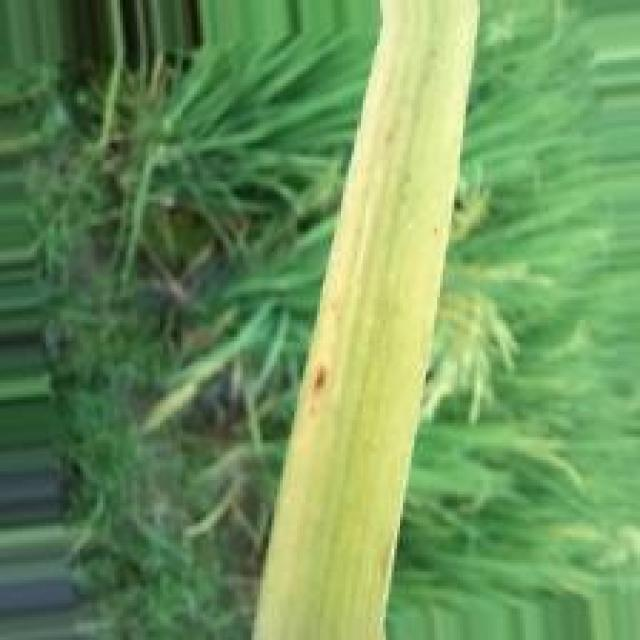Brown_Spot: (310, 359, 335, 398)
